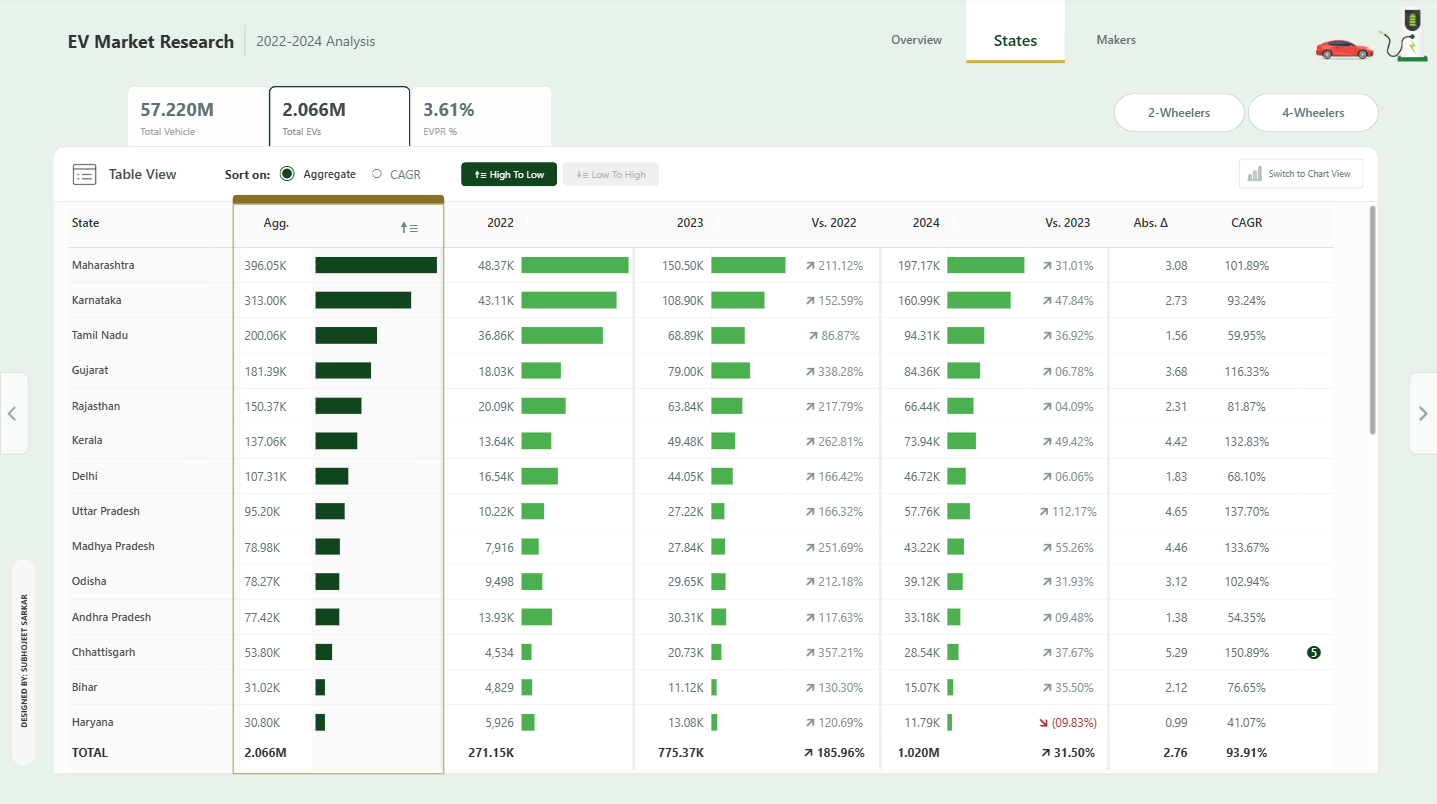

What the dashboard file says about the page in this screenshot:
{"tool":"powerbi","page":{"name":"States: 1","canvas":[1920,1080],"ordinal":2},"visuals":[{"type":"advancedSlicerVisual","fields":{"Values":["Param 0201: Total Sales/EV Sales/EVPR%.Total Sales/EV Sales/EVPR%"],"Label":["KPIs.Lbl Switch 1"]},"box":[171,116,568,88],"z":0},{"type":"shape","box":[70,200,1772,840],"z":1000},{"type":"image","box":[1753.3,25,86.8,93.5],"z":2000},{"type":"image","box":[1828.2,0,91.8,100.2],"z":3000},{"type":"actionButton","box":[1881.2,502.5,38.8,110],"z":4000},{"type":"actionButton","box":[1158.8,33.8,131.2,48.8],"z":5000},{"type":"actionButton","box":[1290,36.3,131.4,48.6],"z":6000},{"type":"shape","box":[1290,75,131.7,25],"z":7000},{"type":"shape","box":[1290,0,131.7,45],"z":8000},{"type":"actionButton","box":[1425.6,33.3,130,48.9],"z":9000},{"type":"shape","box":[300.2,212.6,71.4,50],"z":10000},{"type":"shape","box":[145.7,217.6,115.7,40],"z":11000},{"type":"image","box":[90,209.8,45.7,55.7],"z":12000},{"type":"pivotTable","fields":{"Values":["KPIs.0201: Dynamic_Rank NEW","KPIs.Lbl Switch 1","KPIs.Lbl Switch Bar","KPIs.Blank Column","KPIs.2022","KPIs.2022 Bar","KPIs.Blank Column","KPIs.2023","KPIs.2023 Bar","KPIs.Growth 23-22","KPIs.Blank Column","KPIs.2024"],"Rows":["electric_vehicle_sales_by_state.State"]},"box":[70,274.3,1772,765.7],"z":13000},{"type":"shape","box":[70.4,274.1,1772.2,61.1],"z":14000},{"type":"actionButton","box":[0,503.3,38.3,110],"z":15000},{"type":"shape","box":[310.2,278,283.1,762.7],"z":16000},{"type":"shape","box":[310.2,266.1,283.1,11.9],"z":17000},{"type":"actionButton","box":[1655,217.6,166.7,40],"z":18000},{"type":"shape","box":[522,285,48,45],"z":19000},{"type":"shape","box":[1760,285,48.3,45],"z":20000},{"type":"shape","box":[1601.4,270,220,12],"z":21000},{"type":"shape","box":[1601.4,278.6,220,761.4],"z":22000},{"type":"advancedSlicerVisual","fields":{"Values":["0201_SORT Category.SORT_Category"]},"box":[372.5,219.8,241.4,35.7],"z":23000},{"type":"advancedSlicerVisual","fields":{"Values":["0201_SORT Order.SORT_Order"]},"box":[615.4,221.6,264,32],"z":24000},{"type":"shape","box":[90.5,41.6,229.8,36.2],"z":25000},{"type":"shape","box":[320,38.5,13.3,43.3],"z":26000},{"type":"shape","box":[341.6,41.9,268.3,36.7],"z":27000},{"type":"actionButton","box":[15,752,33,278],"z":28000},{"type":"advancedSlicerVisual","fields":{"Values":["Dim_Vehicle_type.Description"]},"box":[1488.3,130,355,51.7],"z":29000}]}

Visuals, with their boxes in screenshot pixels (x1, y1, x2, y2), scaled from the page's 1920x1080 canvas onto the 1437x804 screenshot:
advancedSlicerVisual - Param 0201: Total Sales/EV Sales/EVPR%.Total Sales/EV Sales/EVPR% x KPIs.Lbl Switch 1: [128,86,553,152]
shape: [52,149,1379,774]
image: [1312,19,1377,88]
image: [1368,0,1436,75]
actionButton: [1408,374,1436,456]
actionButton: [867,25,965,61]
actionButton: [965,27,1064,63]
shape: [965,56,1064,74]
shape: [965,0,1064,34]
actionButton: [1067,25,1164,61]
shape: [225,158,278,195]
shape: [109,162,196,192]
image: [67,156,102,198]
pivotTable - KPIs.0201: Dynamic_Rank NEW x KPIs.Lbl Switch 1: [52,204,1379,774]
shape: [53,204,1379,250]
actionButton: [0,375,29,457]
shape: [232,207,444,775]
shape: [232,198,444,207]
actionButton: [1239,162,1363,192]
shape: [391,212,427,246]
shape: [1317,212,1353,246]
shape: [1199,201,1363,210]
shape: [1199,207,1363,774]
advancedSlicerVisual - 0201_SORT Category.SORT_Category: [279,164,459,190]
advancedSlicerVisual - 0201_SORT Order.SORT_Order: [461,165,658,189]
shape: [68,31,240,58]
shape: [240,29,249,61]
shape: [256,31,456,59]
actionButton: [11,560,36,767]
advancedSlicerVisual - Dim_Vehicle_type.Description: [1114,97,1380,135]
